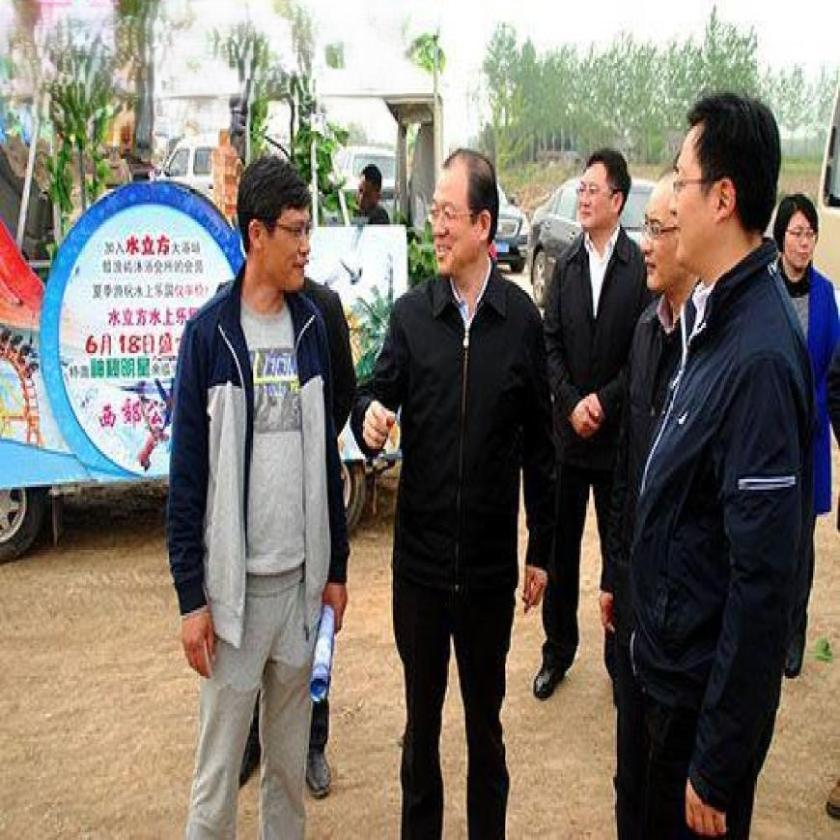Sin_casco: (666, 87, 785, 296), (235, 140, 327, 308), (425, 142, 501, 284), (568, 144, 636, 253), (771, 190, 820, 282)
